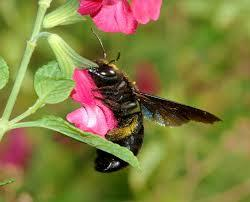Xylocopa: (73, 39, 227, 176)
